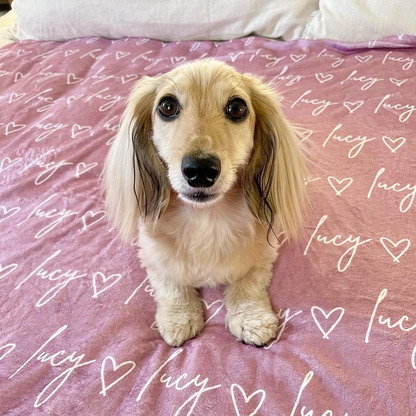dachshund: (97, 59, 320, 356)
